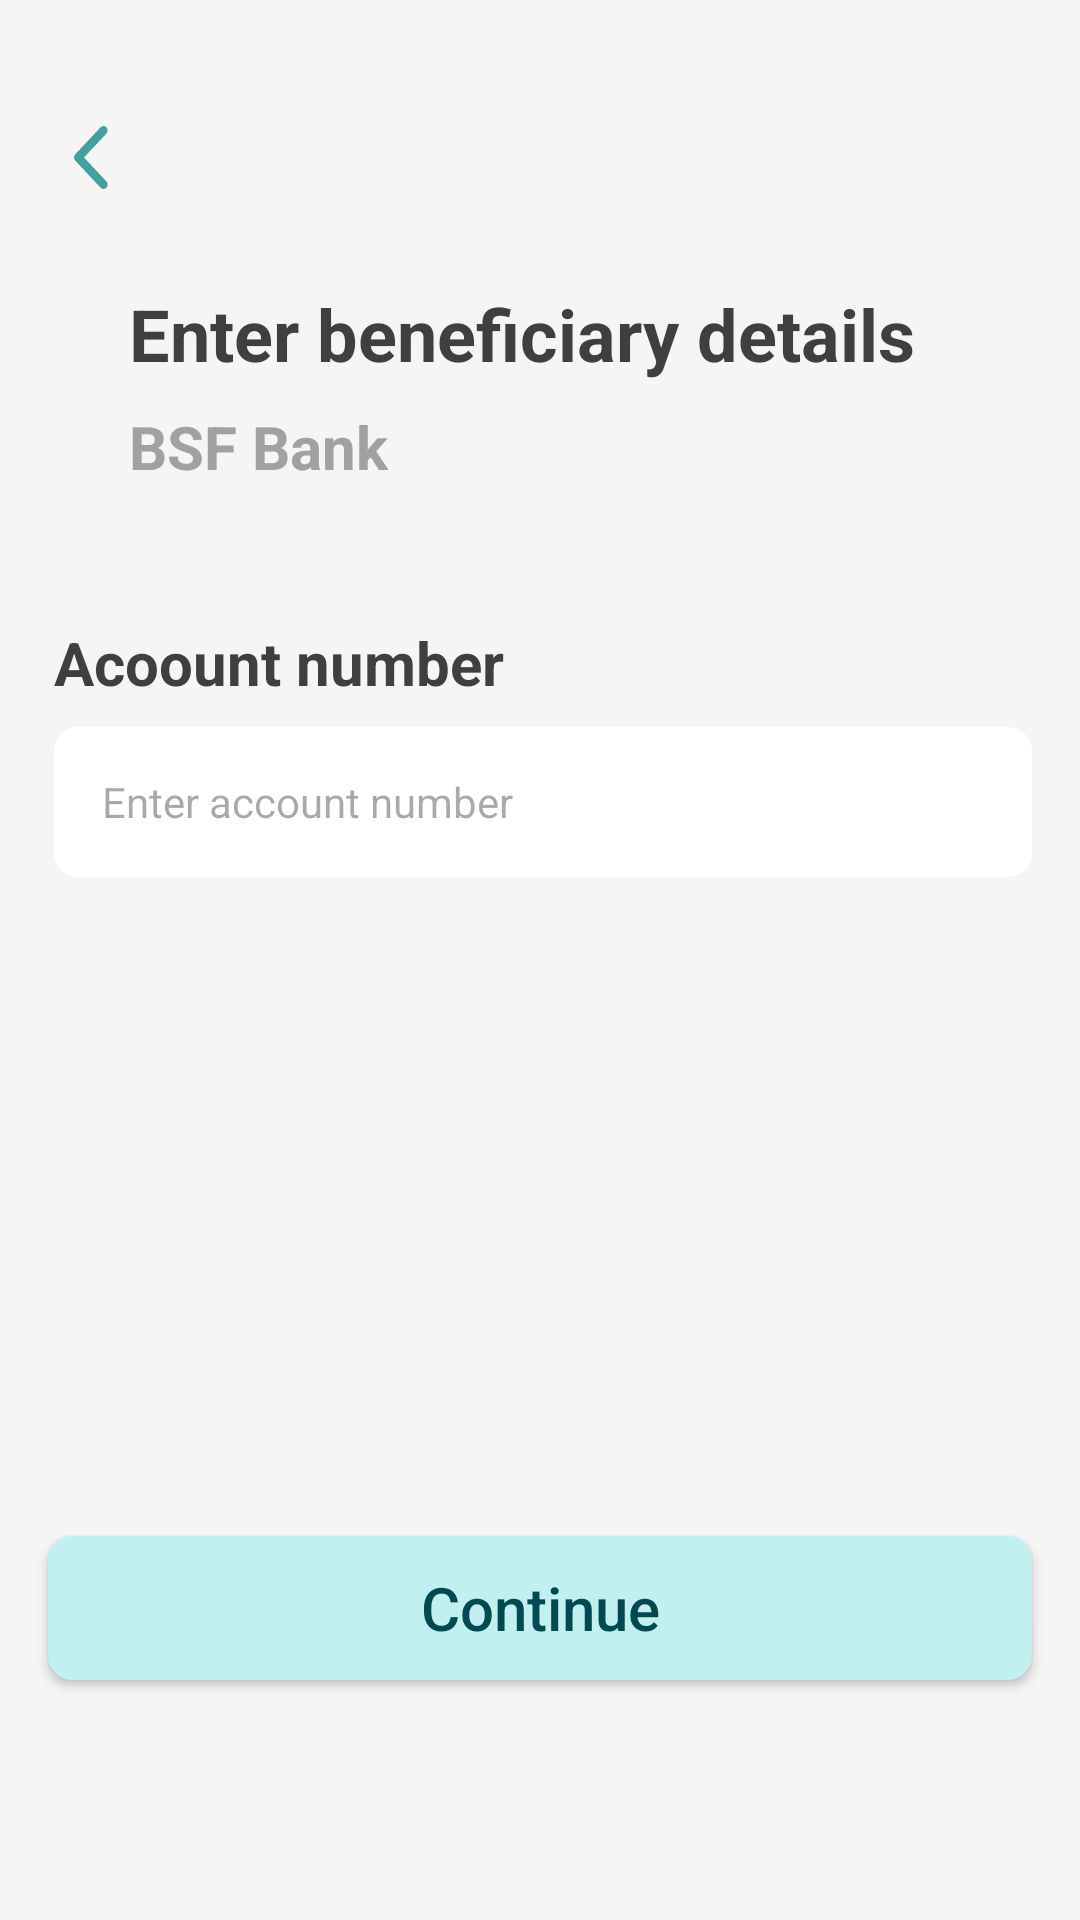

Point at icon controls on the screen. Image size 1080px×1920px, points as (x,y).
back: (91,157)
